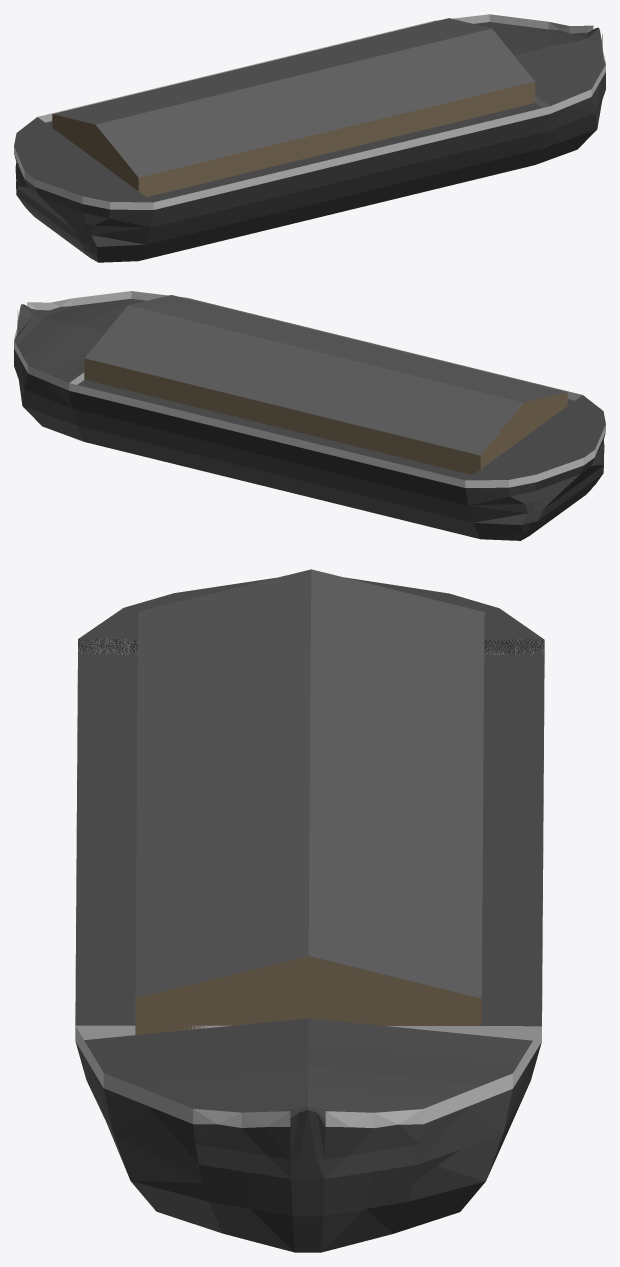
Rendered from tug-barge.dae.
The picture shows the model from 3 angles, top to bottom: view 1: azimuth 30°, elevation 25°; view 2: azimuth 150°, elevation 25°; view 3: azimuth 270°, elevation 25°; orthographic projection. The views are drawn at different scales.
Parts seen in each view (by area): view 1: Cube_019; view 2: Cube_019; view 3: Cube_019.
Part boxes in pixels (x1,y1,x2,y2): Cube_019: [14, 14, 605, 262]; Cube_019: [14, 291, 605, 540]; Cube_019: [75, 569, 544, 1252].
Bounding box in the file's own units: 7.44 × 2.66 × 1.31.
